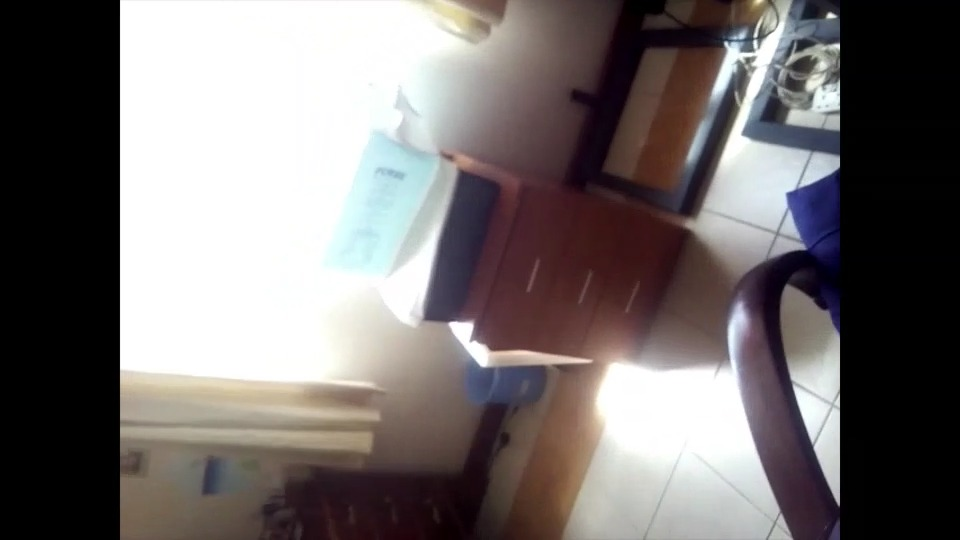wheat_flour_blue_label: (324, 90, 434, 282)
